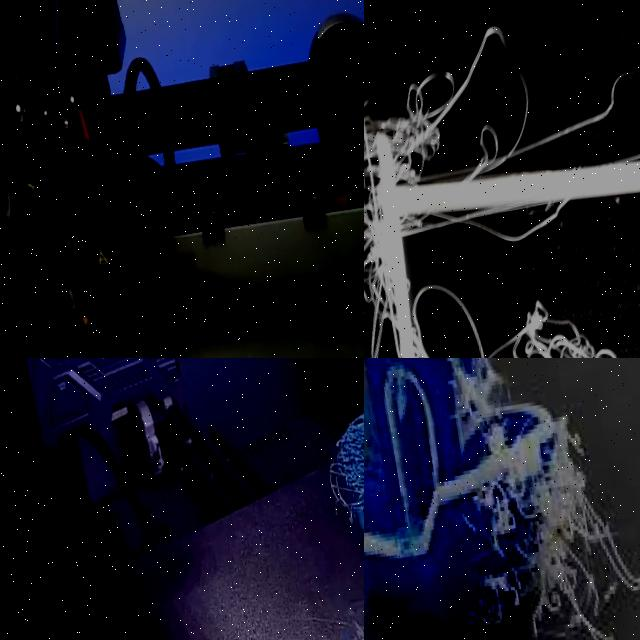spaghetti: (364, 10, 640, 358), (444, 358, 640, 640), (421, 253, 640, 358), (328, 413, 364, 535), (364, 379, 389, 478)
